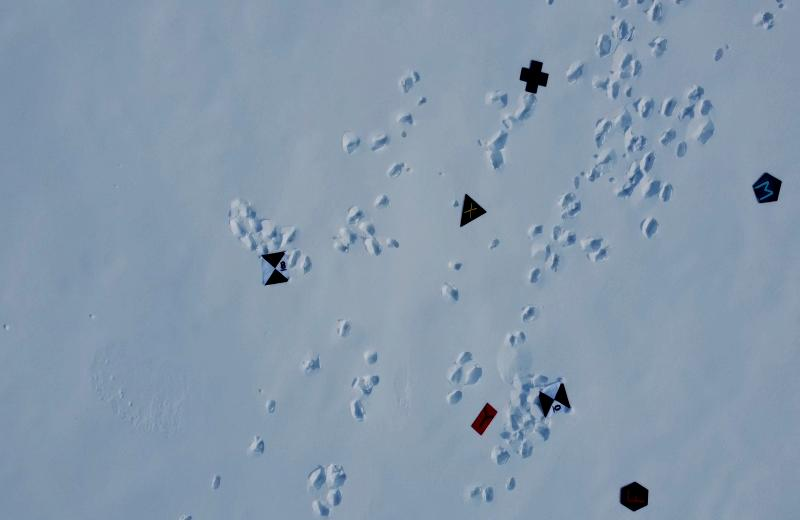Cross: (518, 56, 549, 96)
Hexagon: (617, 479, 651, 513)
Pentagon: (751, 172, 783, 206)
Rectangle: (469, 402, 499, 438)
Triangle: (456, 191, 488, 227)
